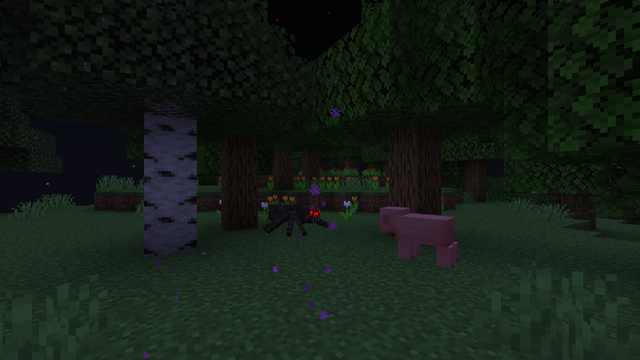araignees: (269, 200, 327, 237)
cochons: (392, 211, 458, 268)
